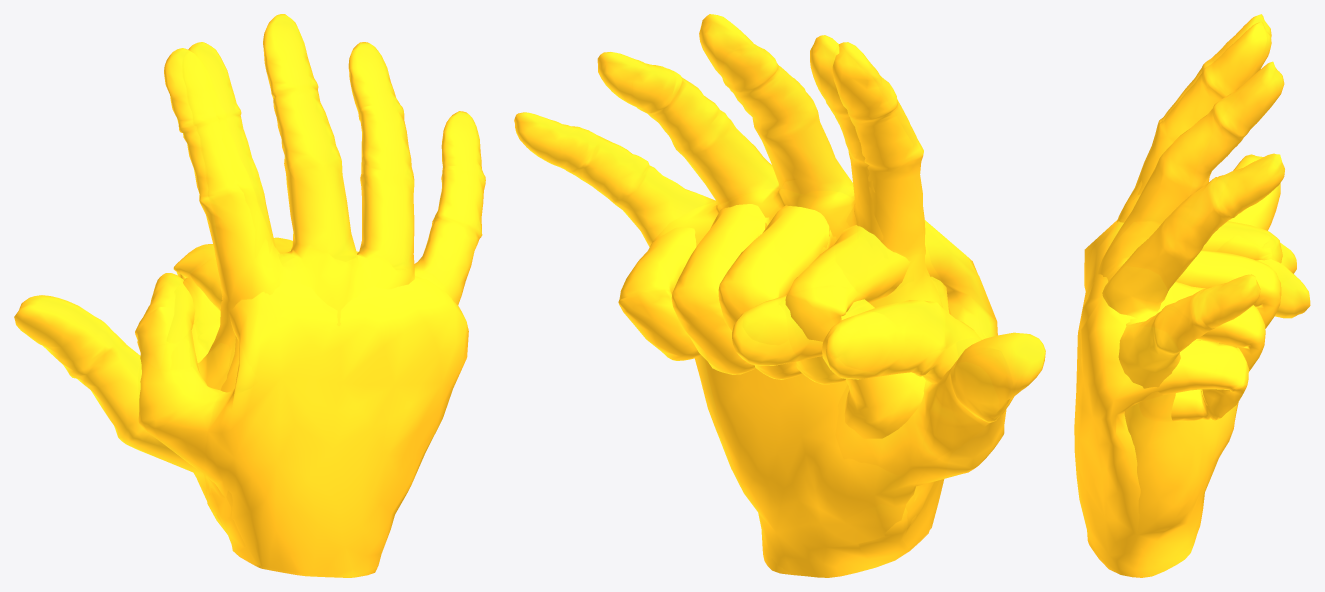
Rendered from ghost-hand-pluck.glb.
The picture shows the model from 3 angles, left to right: view 1: azimuth 30°, elevation 25°; view 2: azimuth 150°, elevation 25°; view 3: azimuth 270°, elevation 25°; orthographic projection. The views are drawn at different scales.
Visible parts, largest first — view 1: PluckHand_Fist, PluckHand_Open, PluckHand_Point; view 2: PluckHand_Open, PluckHand_Fist, PluckHand_Point; view 3: PluckHand_Open, PluckHand_Fist, PluckHand_Point.
Part boxes in pixels (x1=…): PluckHand_Fist: x1=135, y1=237, x2=468, y2=577; PluckHand_Open: x1=14, y1=14, x2=485, y2=577; PluckHand_Point: x1=183, y1=42, x2=441, y2=577; PluckHand_Open: x1=514, y1=14, x2=1045, y2=577; PluckHand_Fist: x1=618, y1=204, x2=997, y2=574; PluckHand_Point: x1=732, y1=35, x2=950, y2=577; PluckHand_Open: x1=1087, y1=14, x2=1284, y2=575; PluckHand_Fist: x1=1074, y1=220, x2=1296, y2=577; PluckHand_Point: x1=1078, y1=21, x2=1310, y2=553.
Size of the model in its own units: 0.1743 by 0.1861 by 0.079.
